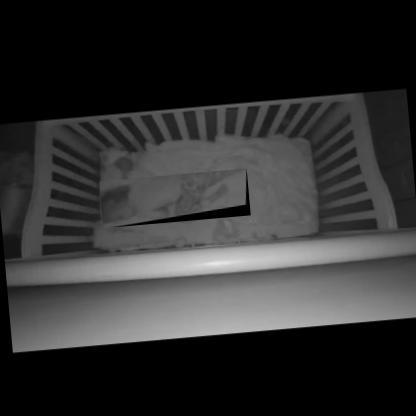baby: (102, 169, 241, 225)
